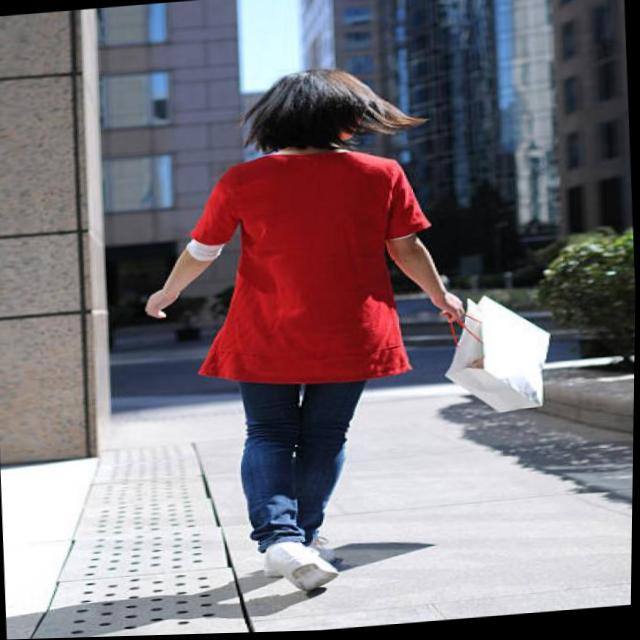no helmet: (258, 64, 374, 166)
